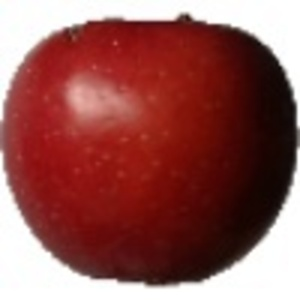maçã braeburn: (1, 12, 297, 288)
